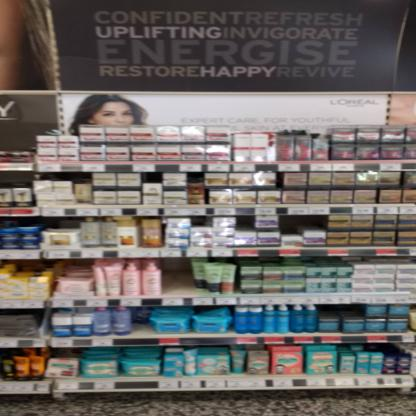Void: (0, 124, 31, 147), (166, 260, 186, 292), (322, 305, 362, 314), (384, 342, 406, 354), (283, 217, 298, 233), (133, 324, 151, 335), (192, 217, 208, 226), (240, 217, 252, 228), (308, 218, 321, 228)
